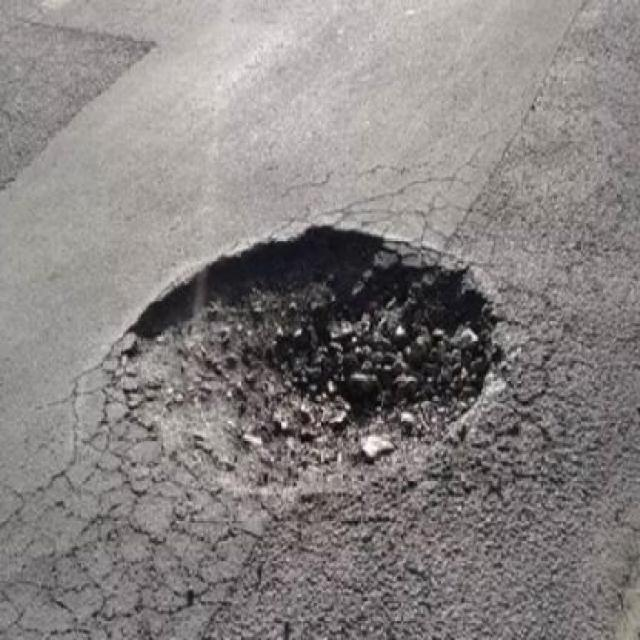Pothole: (108, 201, 521, 508)
